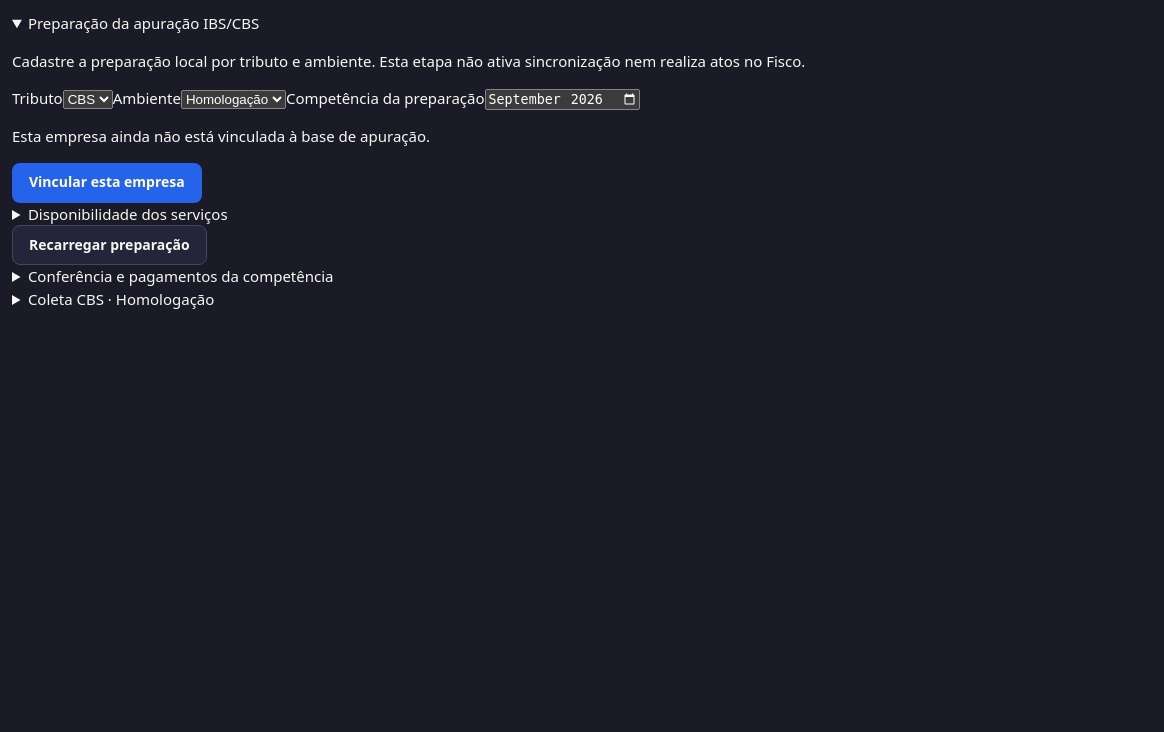
vincula somente a empresa atual e mostra o grupo relido
The image size is (1164, 732).
Step 1. Click the button "Vincular esta empresa" → coordinates (107, 183), box top-left (12, 163), bottom-right (202, 203)
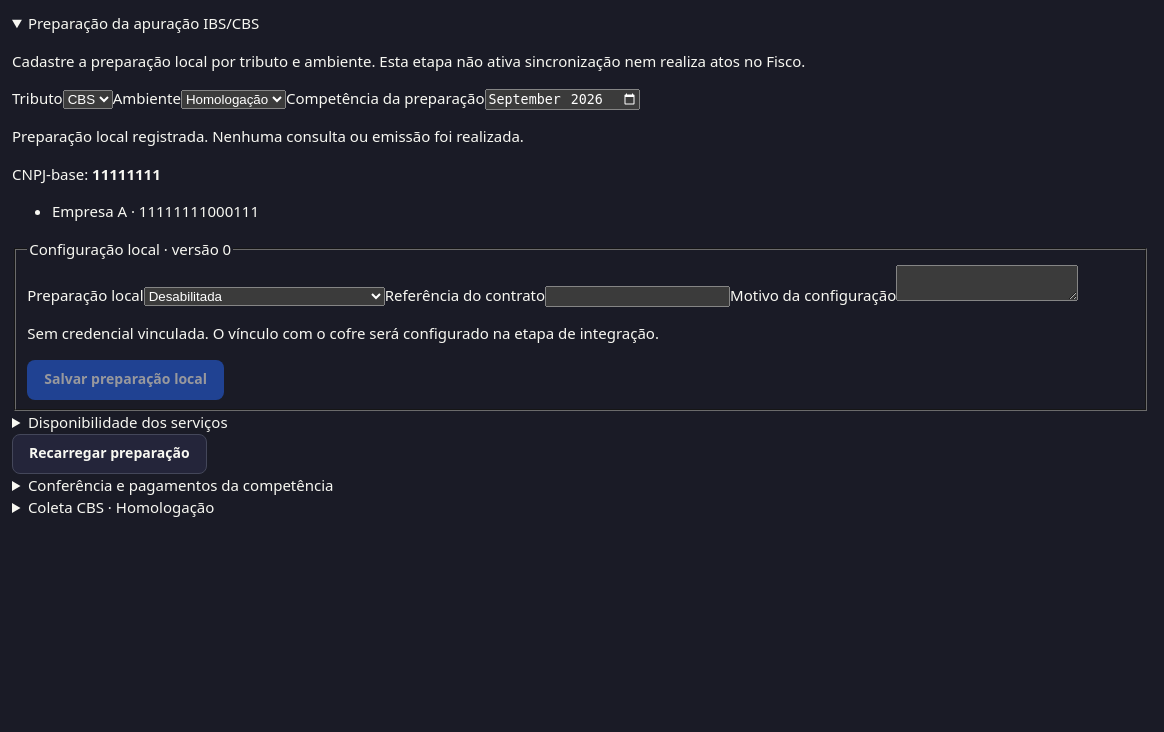
Now the list item "Empresa A · 11111111000111" is shown, box top-left (52, 201), bottom-right (259, 221)
